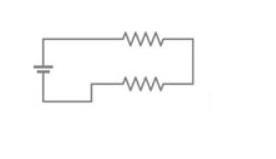resistor: (111, 64, 172, 97), (115, 19, 169, 53)
